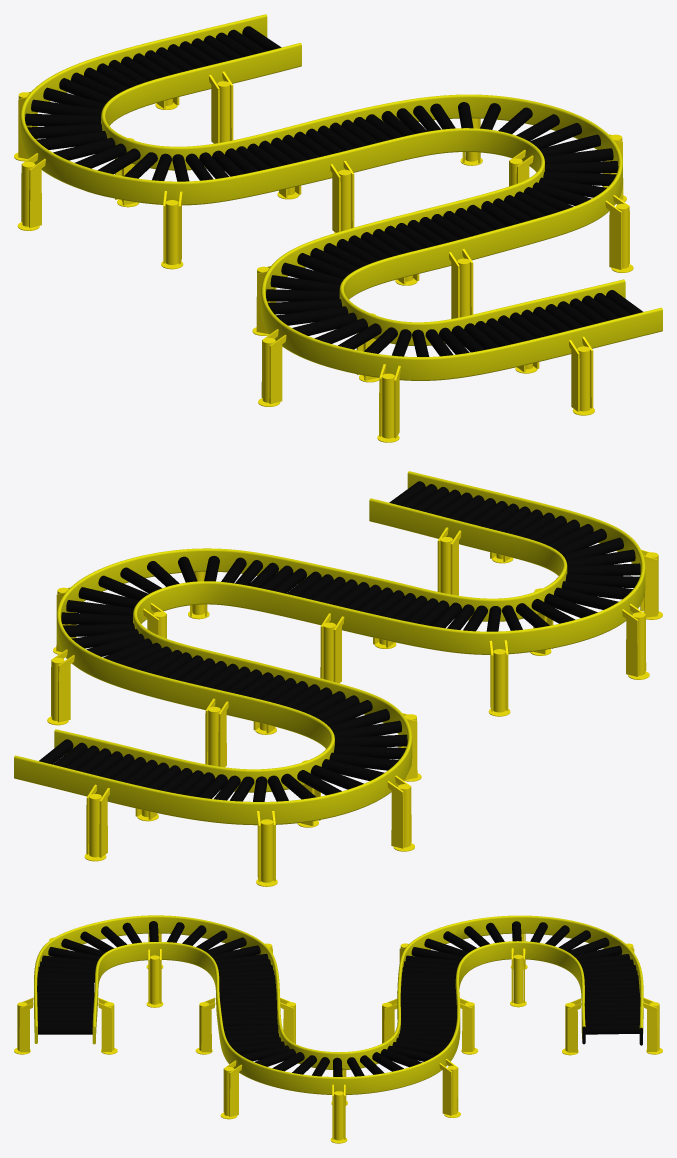
Rendered from CurveyBelt 1.fbx.
The picture shows the model from 3 angles, top to bottom: view 1: azimuth 30°, elevation 25°; view 2: azimuth 150°, elevation 25°; view 3: azimuth 270°, elevation 25°; orthographic projection. The views are drawn at different scales.
Visible parts, largest first — view 1: SuperCurvyRailway; view 2: SuperCurvyRailway; view 3: SuperCurvyRailway.
Part boxes in pixels (<box>): SuperCurvyRailway: <box>14,14,662,442</box>; SuperCurvyRailway: <box>14,471,662,886</box>; SuperCurvyRailway: <box>14,915,662,1143</box>.
Size of the model in its own units: 781 by 115 by 1190.
